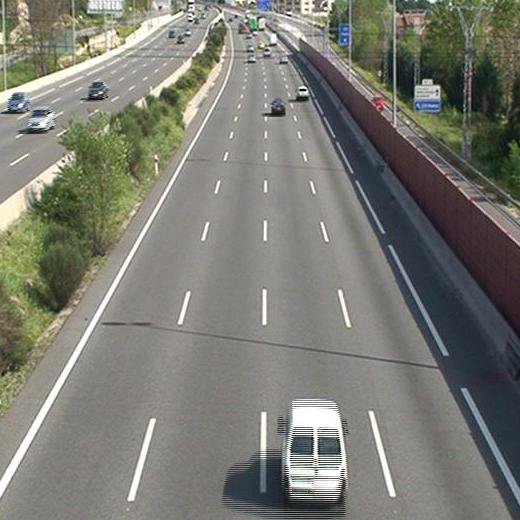car: (271, 98, 286, 113), (296, 85, 309, 98)
van: (281, 400, 347, 501)
